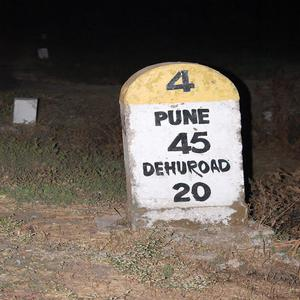kmstone: (116, 63, 255, 223)
